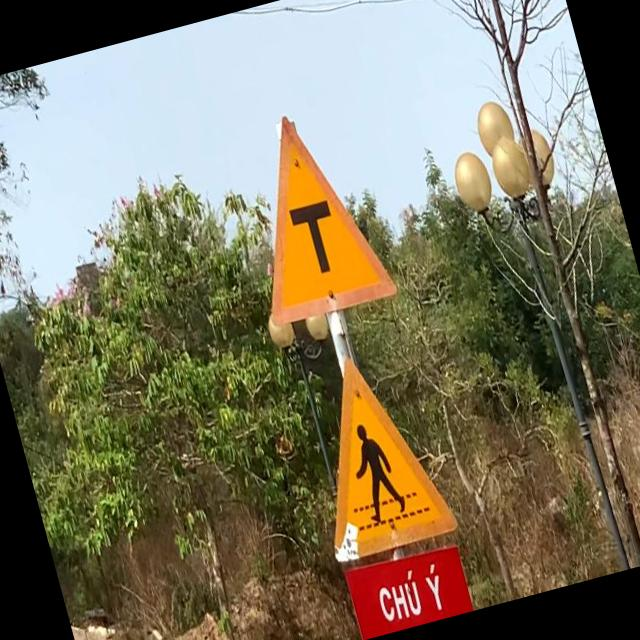W-205d: (222, 100, 398, 329)
W-224: (286, 338, 460, 564)
